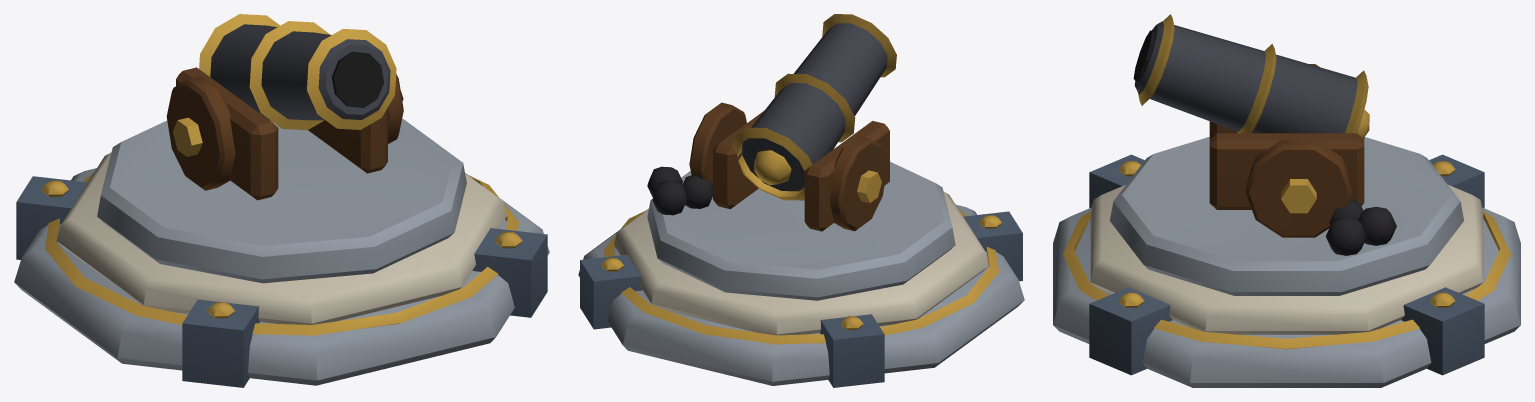
File: alliance_3.glb
The picture shows the model from 3 angles, left to right: view 1: azimuth 30°, elevation 25°; view 2: azimuth 150°, elevation 25°; view 3: azimuth 270°, elevation 25°; orthographic projection. The views are drawn at different scales.
Parts seen in each view (by area): view 1: alliance_3_peint, Fut_peint, Tourelle_peint; view 2: alliance_3_peint, Fut_peint, Tourelle_peint; view 3: alliance_3_peint, Fut_peint, Tourelle_peint.
Boxes of the visible parts, left/top/right/bottom form: alliance_3_peint: left=14, top=118, right=549, bottom=387; Fut_peint: left=199, top=14, right=396, bottom=130; Tourelle_peint: left=166, top=67, right=403, bottom=200; alliance_3_peint: left=578, top=162, right=1024, bottom=387; Fut_peint: left=732, top=14, right=896, bottom=200; Tourelle_peint: left=647, top=102, right=889, bottom=231; alliance_3_peint: left=1053, top=137, right=1520, bottom=387; Fut_peint: left=1133, top=14, right=1369, bottom=138; Tourelle_peint: left=1209, top=64, right=1396, bottom=255.
Size of the model in its own units: 0.7869 by 0.5069 by 0.7869.
